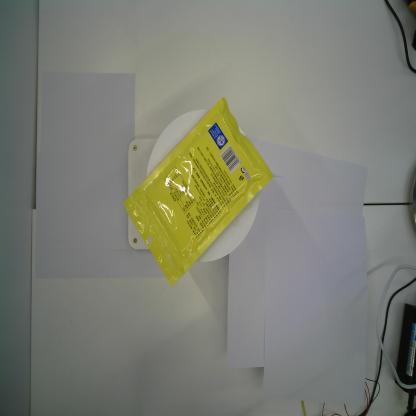Dried Fruit: (123, 95, 275, 287)
